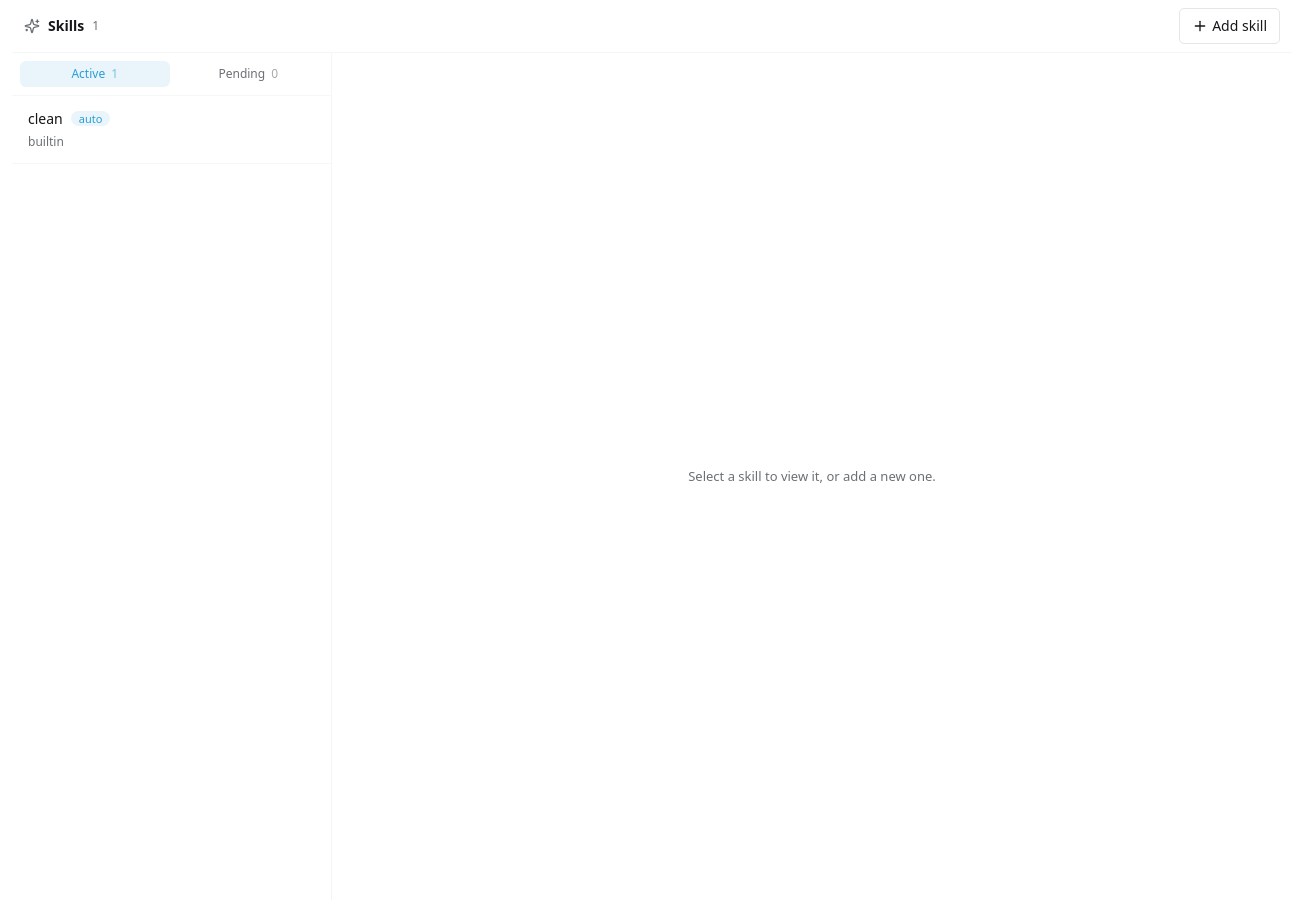
it: SkillsView security surface › renders an empty state when nothing is pending
The width and height of the screenshot is (1292, 900).
Expected: the text "clean" is shown, 28,108 -> 63,129
Click the button "Pending 0" at x=248, y=74, box 174,61 -> 323,87
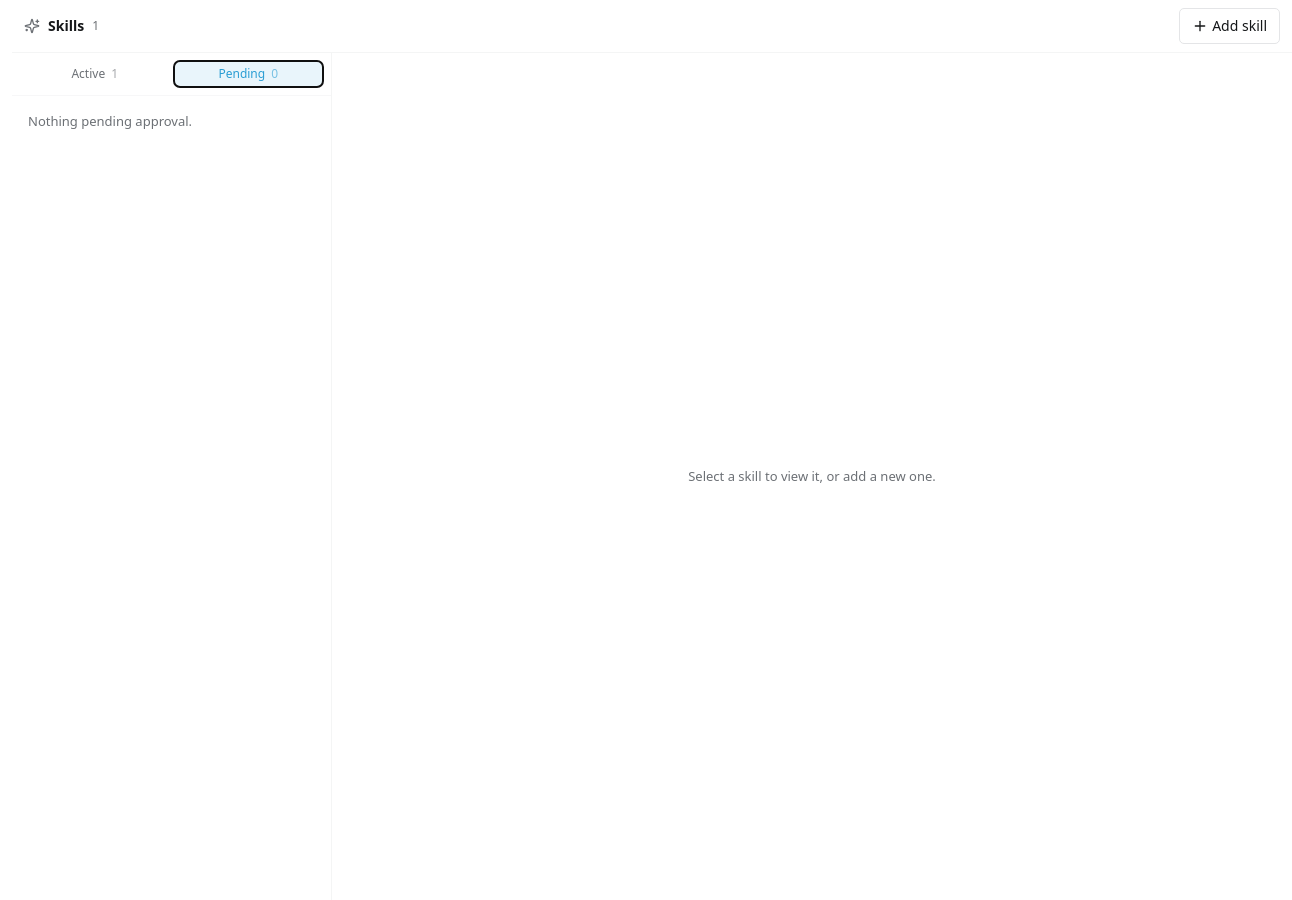
Expected: the text "Nothing pending approval." is shown, 28,112 -> 192,130
